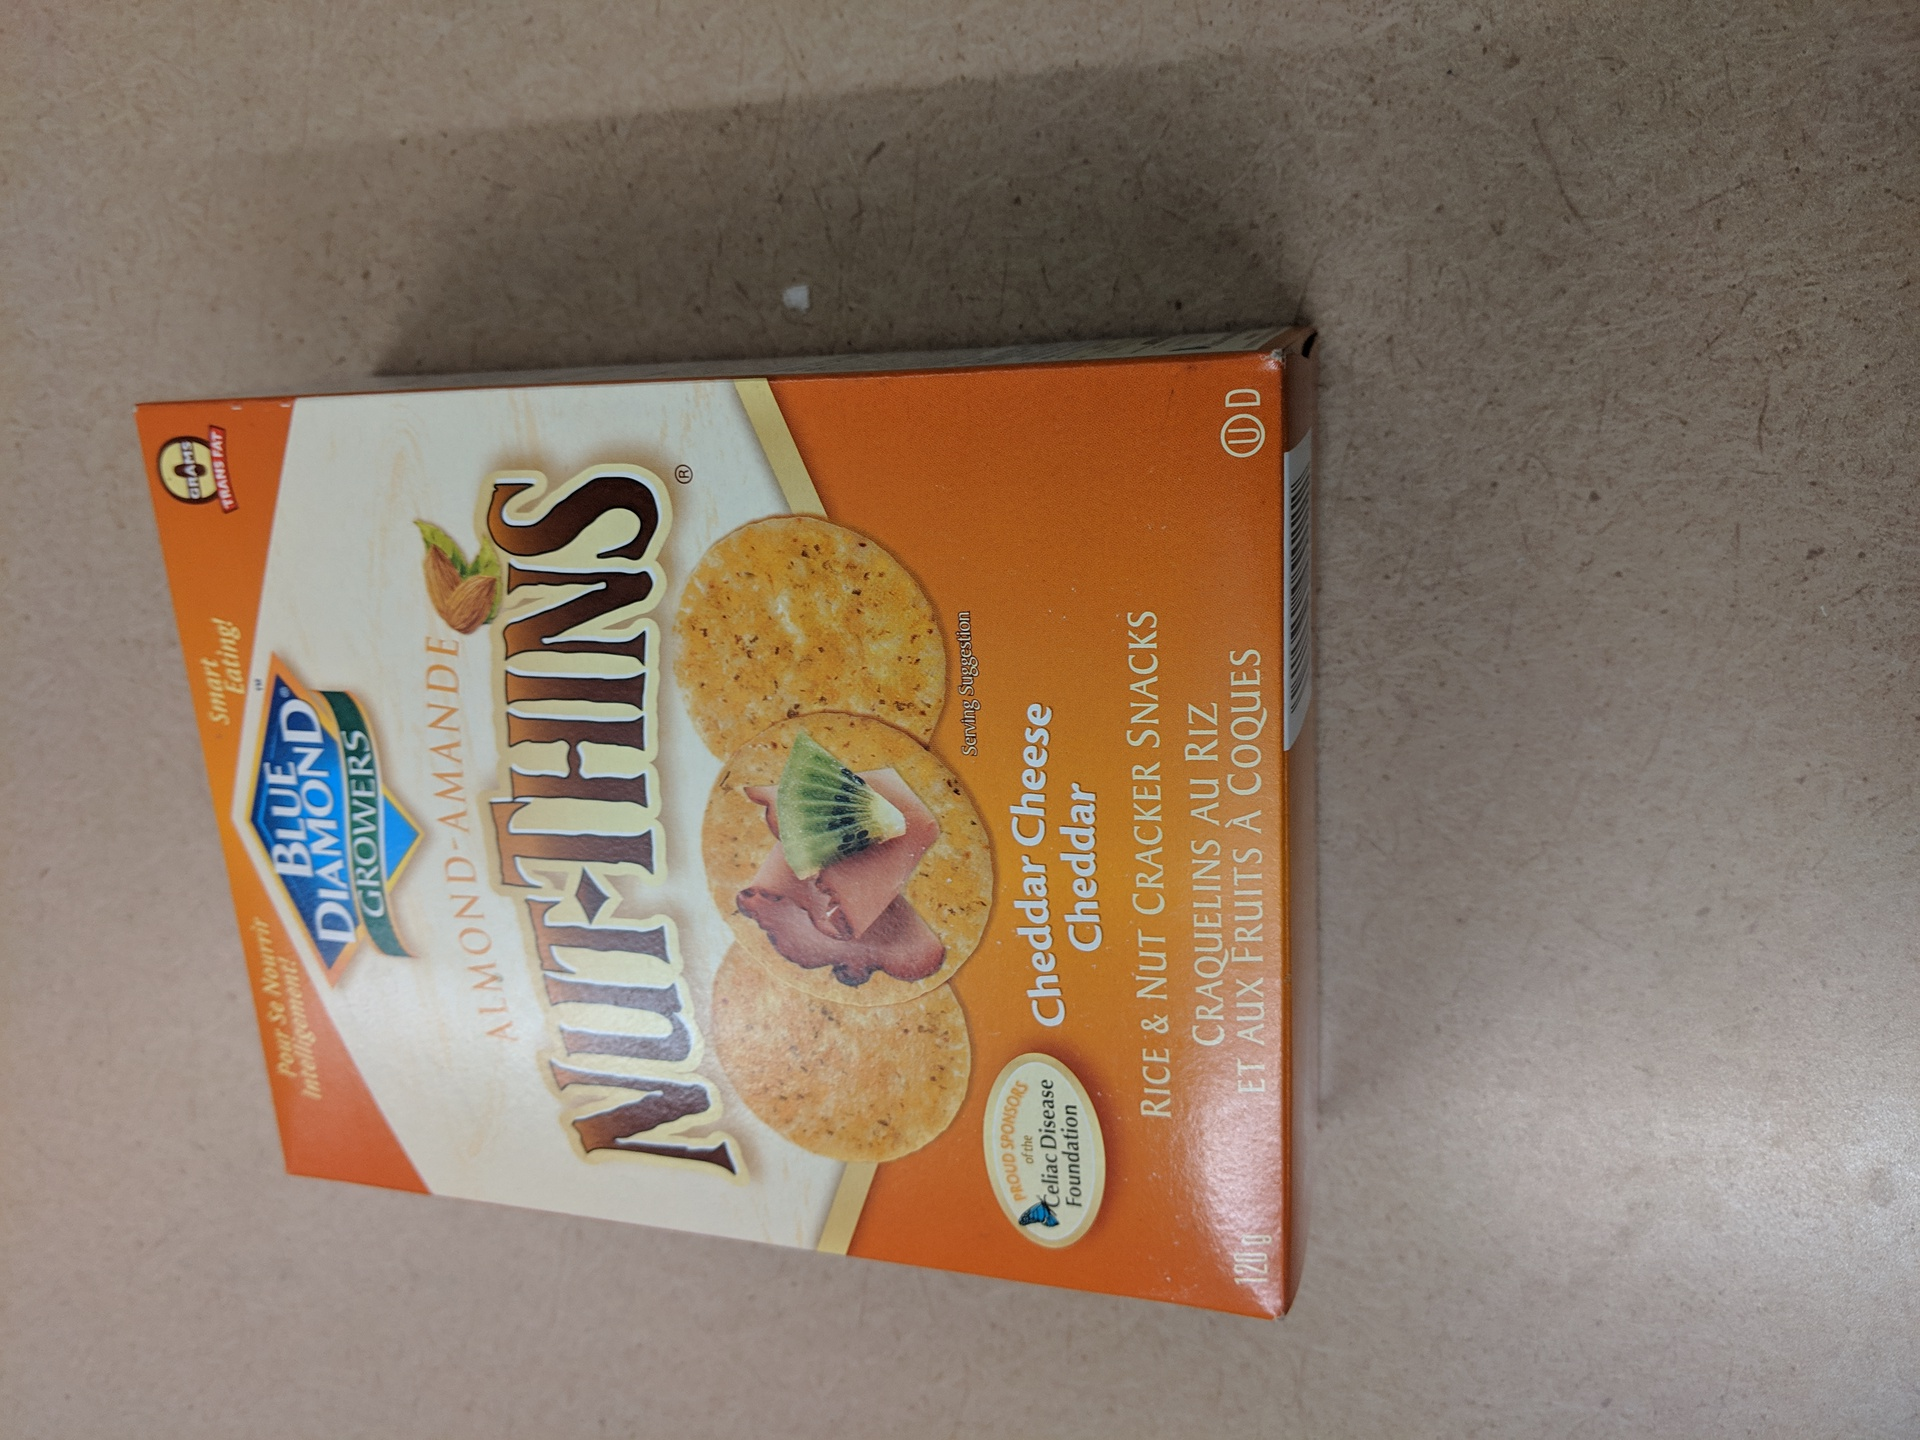blue_diamond_nut_thins_almond_cheddar: (118, 289, 1339, 1352)
